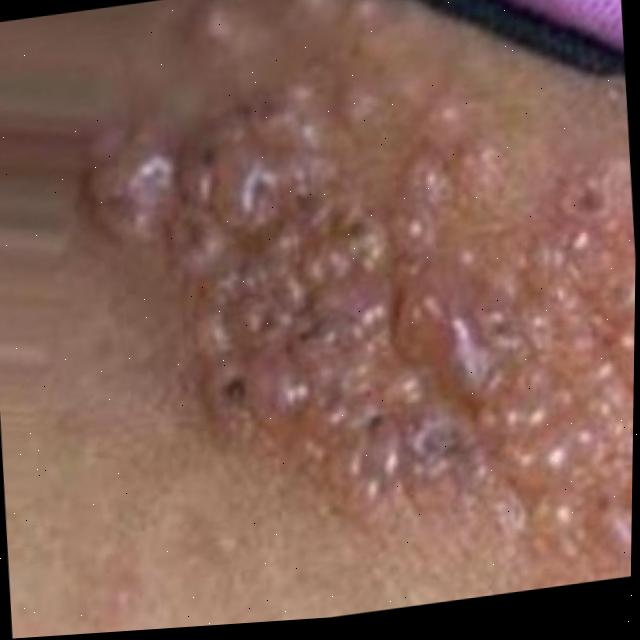Shingles: (63, 0, 640, 635)
